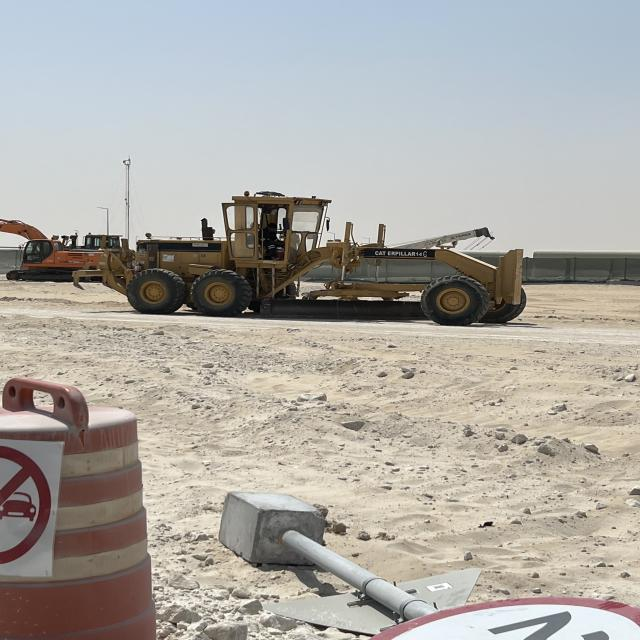buldozerpayloadergrader: (72, 186, 530, 317)
